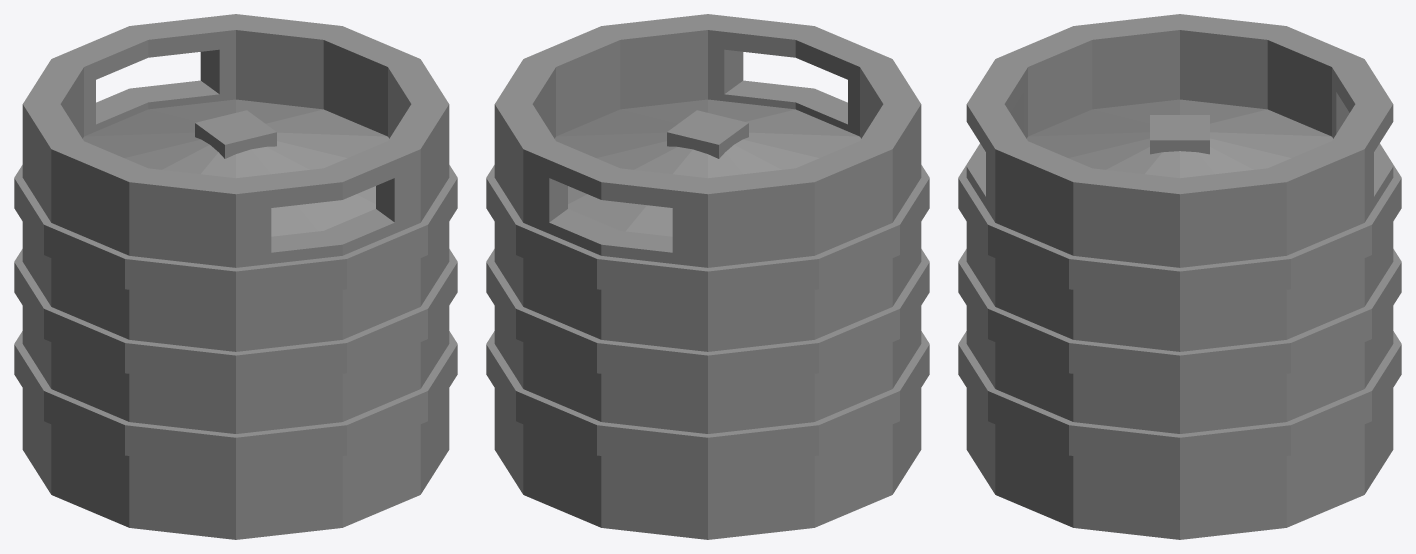
The model's file is Barrel_02.glb.
The picture shows the model from 3 angles, left to right: view 1: azimuth 30°, elevation 25°; view 2: azimuth 150°, elevation 25°; view 3: azimuth 270°, elevation 25°; orthographic projection.
Parts seen in each view (by area): view 1: Barrel_2_mesh; view 2: Barrel_2_mesh; view 3: Barrel_2_mesh.
Part boxes in pixels (bbox=[...]): Barrel_2_mesh: bbox=[14, 14, 457, 539]; Barrel_2_mesh: bbox=[486, 14, 929, 539]; Barrel_2_mesh: bbox=[958, 14, 1401, 539].
Bounding box in the file's own units: 0.4244 × 0.365 × 0.4244.
1 material, 1 textured.
